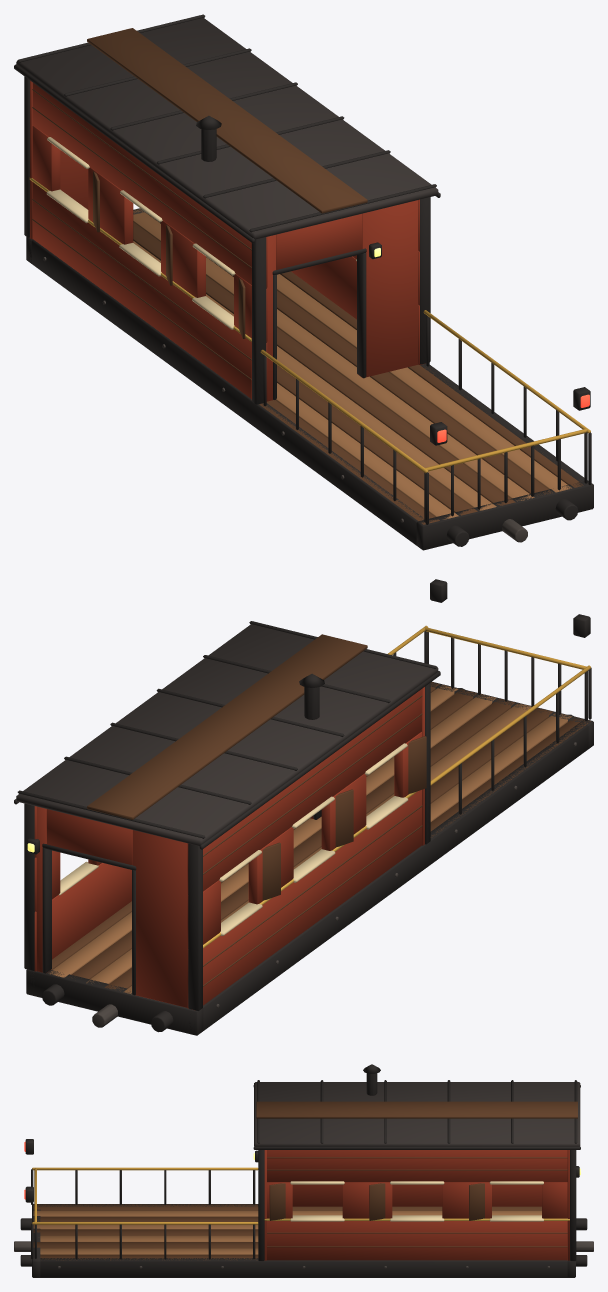
Rendered from car_caboose.glb.
3 views of the same model, one above another, from view 1: azimuth 30°, elevation 25°; view 2: azimuth 150°, elevation 25°; view 3: azimuth 270°, elevation 25° (orthographic). The views are drawn at different scales.
Parts seen in each view (by area): view 1: roofsheet, low-1, walkway, sill-1, up-1, end_r-0.9, deck5, deck4, deck7, endbeam-6.0, deck6, deck3 (+21 smaller); view 2: roofsheet, low-1, sill-1, walkway, up-1, end_l5.9, low1, endbeam6.0, deck4, deck5, end_t5.9, post-15.94 (+23 smaller); view 3: roofsheet, low1, sill1, up1, walkway, low-1, deck1, deck0, deck6, deck4, deck7, deck5 (+27 smaller).
Boxes of the visible parts, x1,y1,x2,y2 form: roofsheet: [16, 17, 438, 239]; low-1: [32, 182, 267, 401]; walkway: [87, 28, 367, 213]; sill-1: [26, 237, 431, 549]; up-1: [32, 82, 267, 288]; end_r-0.9: [358, 200, 418, 377]; deck5: [133, 209, 534, 501]; deck4: [133, 222, 515, 505]; deck7: [277, 274, 571, 492]; endbeam-6.0: [416, 481, 593, 550]; deck6: [147, 213, 552, 495]; deck3: [133, 241, 496, 510]; roofsheet: [16, 624, 438, 845]; low-1: [187, 790, 421, 1010]; sill-1: [188, 719, 593, 1034]; walkway: [87, 634, 367, 819]; up-1: [187, 689, 421, 894]; end_l5.9: [132, 830, 187, 1007]; low1: [34, 863, 131, 971]; endbeam6.0: [26, 969, 203, 1035]; deck4: [104, 698, 515, 991]; deck5: [86, 694, 496, 983]; end_t5.9: [46, 809, 132, 864]; post-15.94: [188, 843, 202, 1011]; roofsheet: [254, 1082, 580, 1146]; low1: [267, 1221, 567, 1260]; sill1: [39, 1258, 567, 1277]; up1: [267, 1150, 567, 1182]; walkway: [256, 1101, 577, 1118]; low-1: [292, 1184, 541, 1206]; deck1: [33, 1210, 541, 1216]; deck0: [33, 1204, 541, 1210]; deck6: [33, 1242, 258, 1248]; deck4: [33, 1229, 258, 1235]; deck7: [40, 1248, 258, 1254]; deck5: [40, 1235, 258, 1241].
Bounding box in the file's own units: 3.3 × 4.14 × 12.8.
